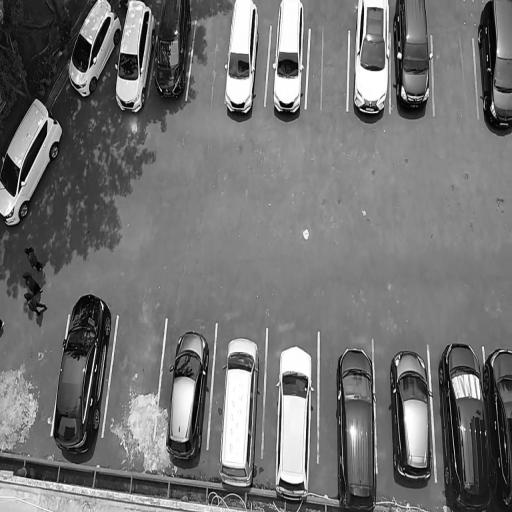Car: (48, 286, 108, 454), (0, 94, 67, 228), (269, 337, 317, 509), (440, 337, 487, 512), (336, 344, 380, 512), (218, 331, 262, 491), (164, 319, 212, 458), (388, 341, 432, 486), (63, 0, 118, 95), (394, 0, 431, 131), (352, 0, 392, 119), (272, 0, 310, 118), (479, 0, 512, 135), (114, 0, 153, 114), (224, 0, 260, 122), (488, 336, 512, 512), (154, 0, 191, 99)
Space Available: (118, 302, 154, 457), (436, 29, 474, 119), (312, 21, 347, 118), (198, 8, 226, 107)
